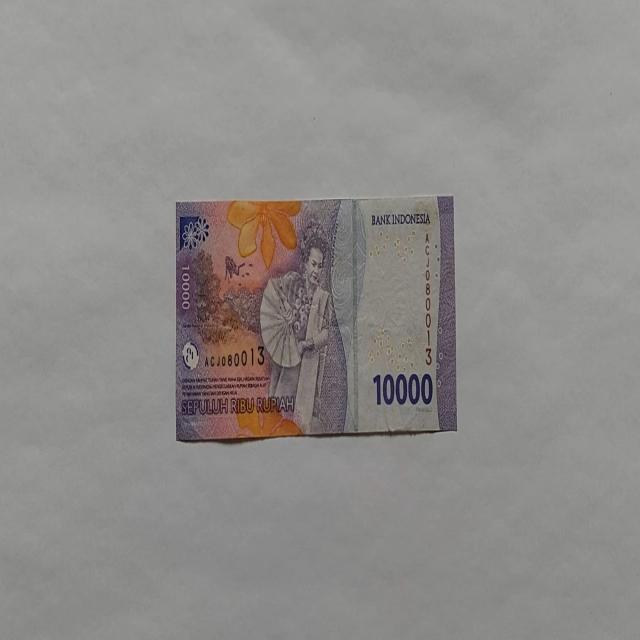sepuluh ribu rupiah: (174, 195, 456, 442), (258, 232, 346, 434)
